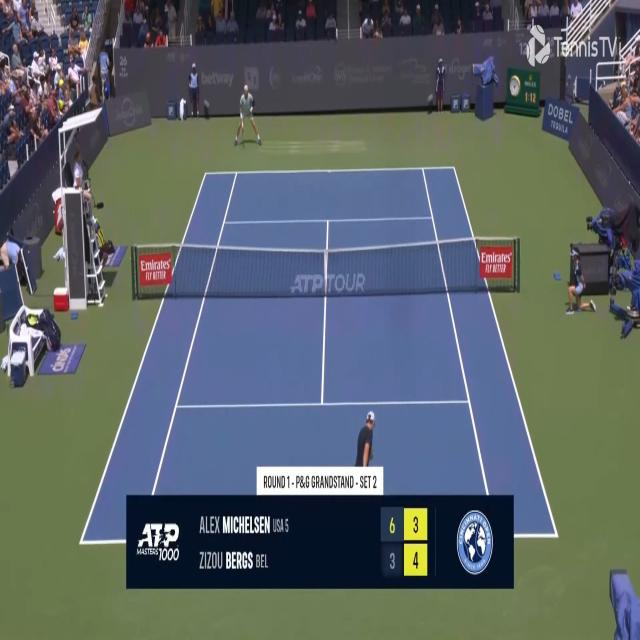tennis-player: (353, 409, 378, 492), (234, 81, 262, 148)
